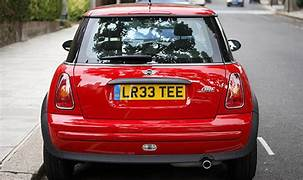number_plate: (112, 84, 187, 102)
